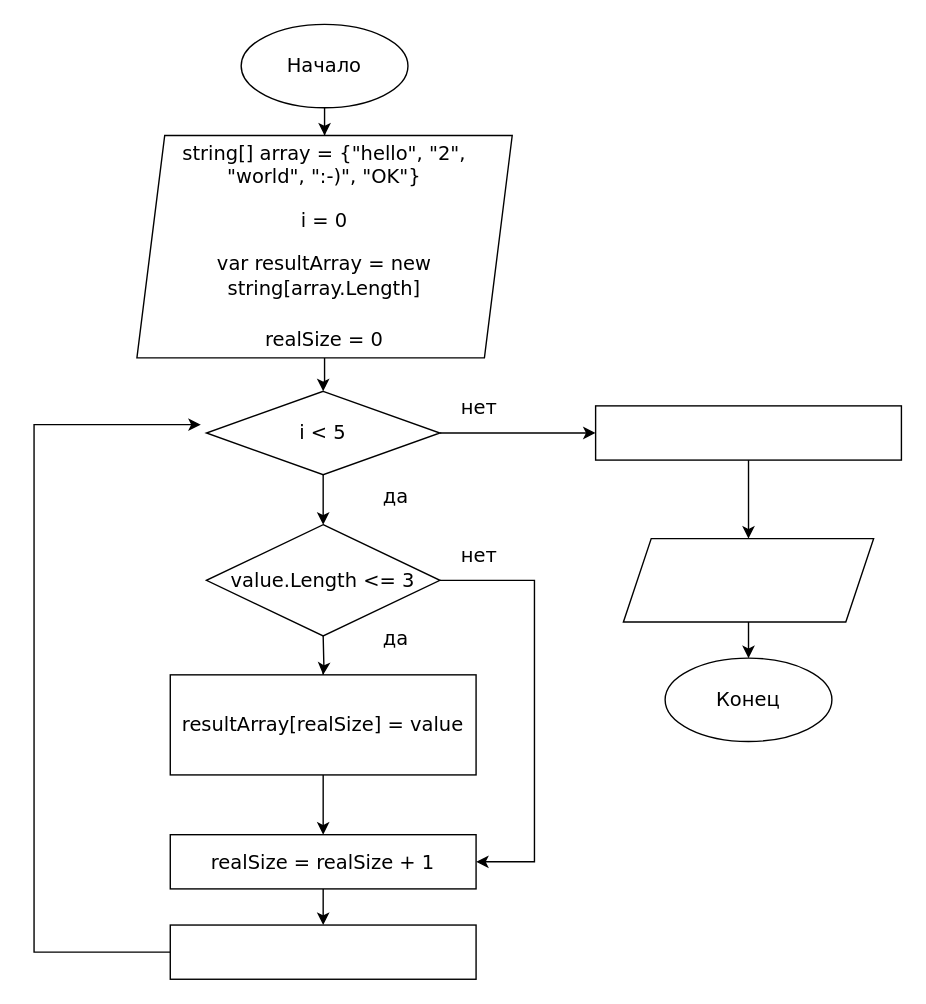
Some shapes in this 926 by 1004 pixel diagram are drawn without their labels. Each missing label, with the centre of its shape:
i++: the point at 322,951
Print new string[array.Length]: the point at 748,579
return resultArray: the point at 747,432
